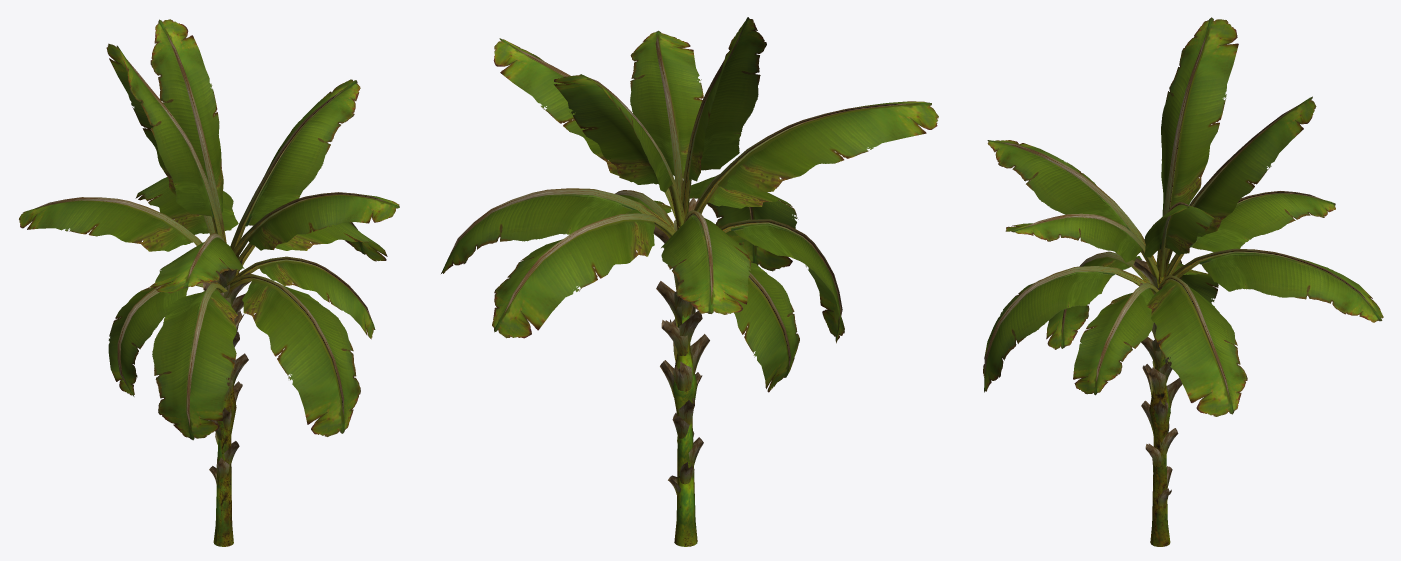
File: banana plant.fbx
3 renders of one model, left to right at view 1: azimuth 30°, elevation 25°; view 2: azimuth 150°, elevation 25°; view 3: azimuth 270°, elevation 25°, orthographic. The views are drawn at different scales.
Visible parts, largest first — view 1: Tree_1, Tree_2, Tree_0; view 2: Tree_1, Tree_2, Tree_0; view 3: Tree_1, Tree_2, Tree_0.
Boxes of the visible parts, <box> form: Tree_1: <box>19,19,399,440</box>; Tree_2: <box>37,34,385,485</box>; Tree_0: <box>213,359,236,546</box>; Tree_1: <box>441,17,938,392</box>; Tree_2: <box>449,30,913,495</box>; Tree_0: <box>672,225,697,546</box>; Tree_1: <box>983,17,1383,416</box>; Tree_2: <box>984,34,1370,506</box>; Tree_0: <box>1149,277,1170,546</box>.
Bounding box in the file's own units: 149 × 216 × 164.
